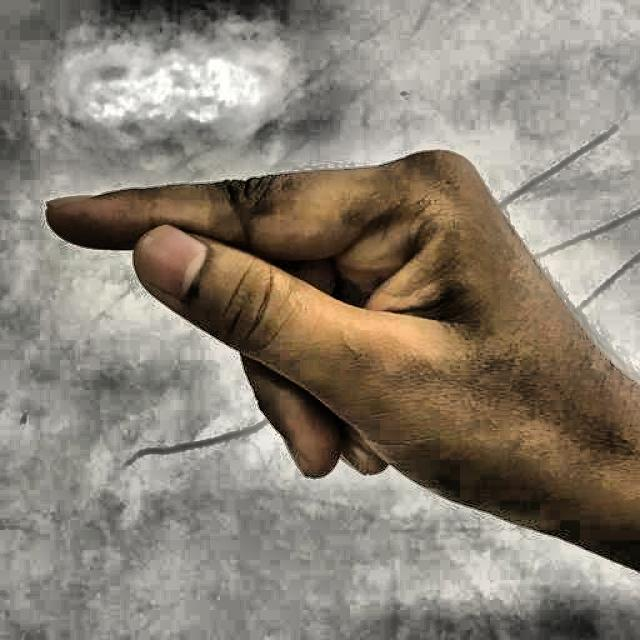Tha: (33, 130, 632, 584)
